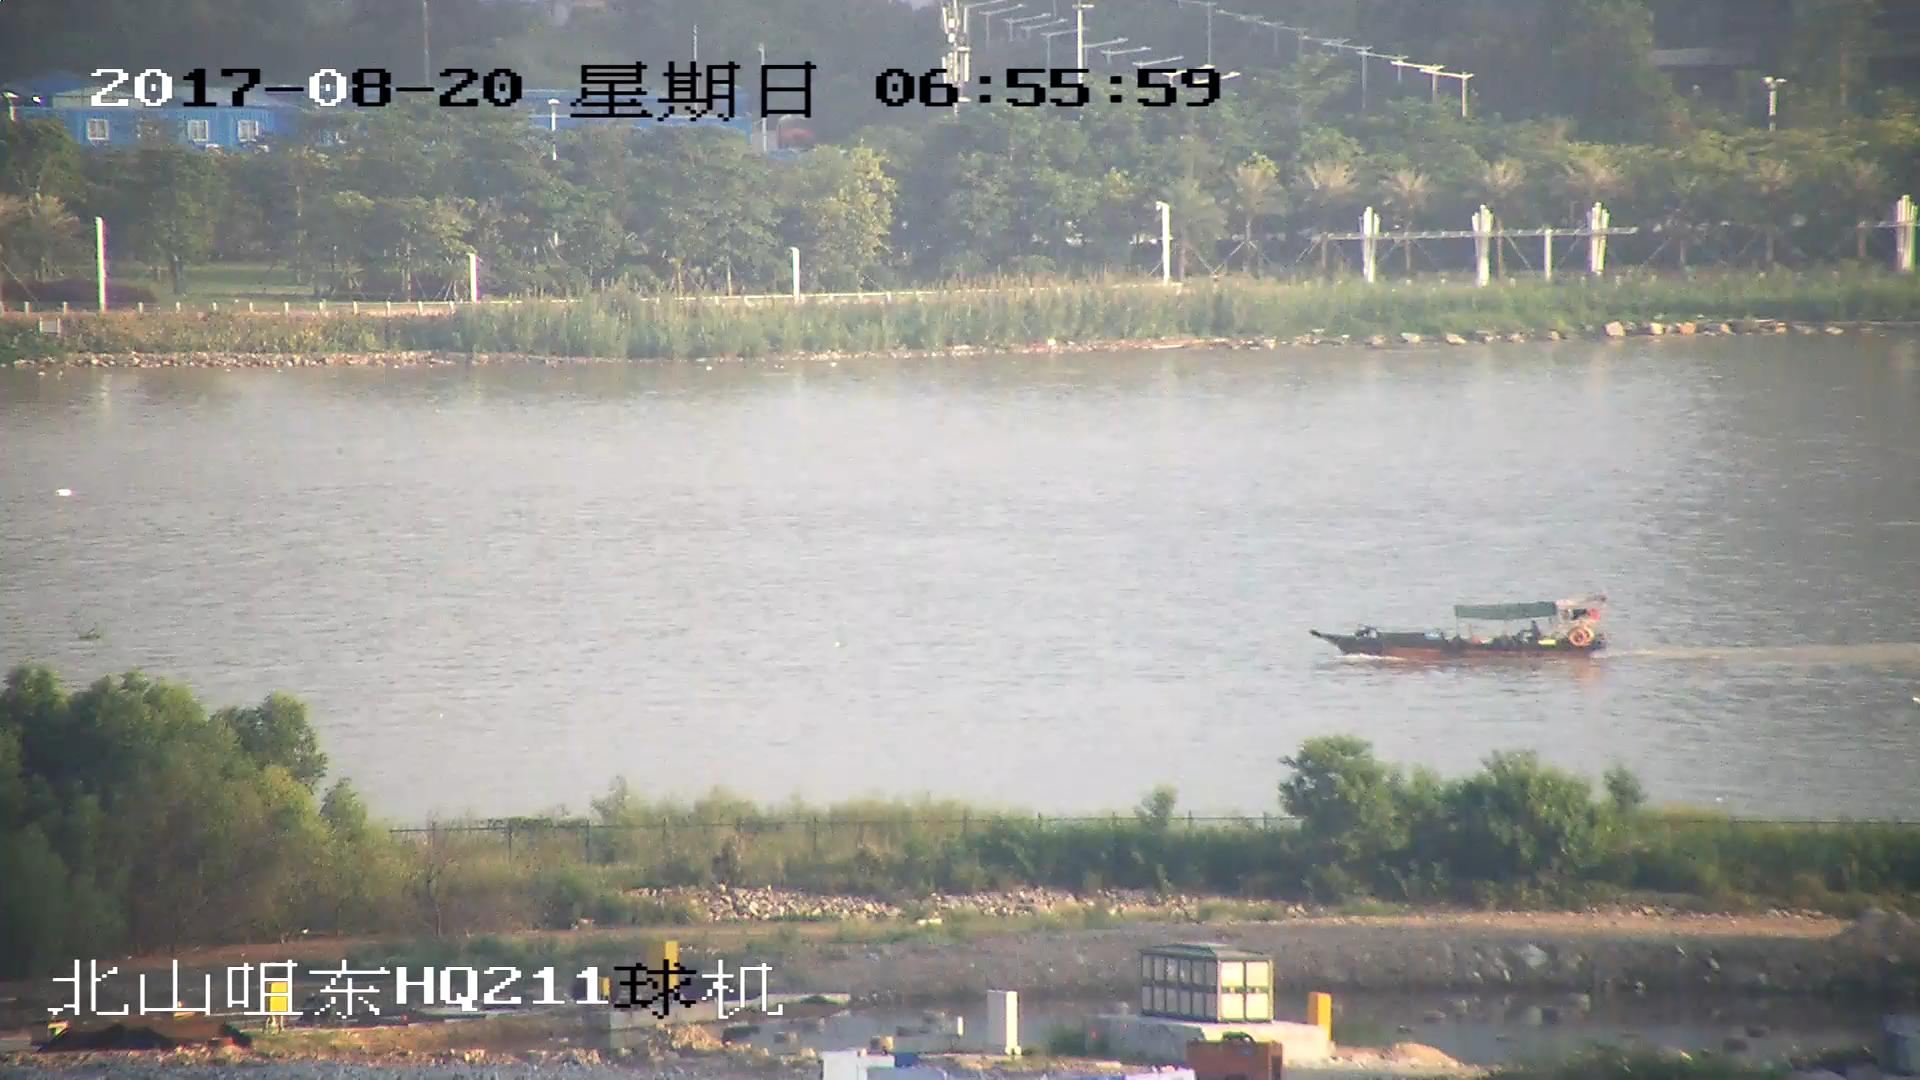fishing boat: (1316, 591, 1610, 665)
